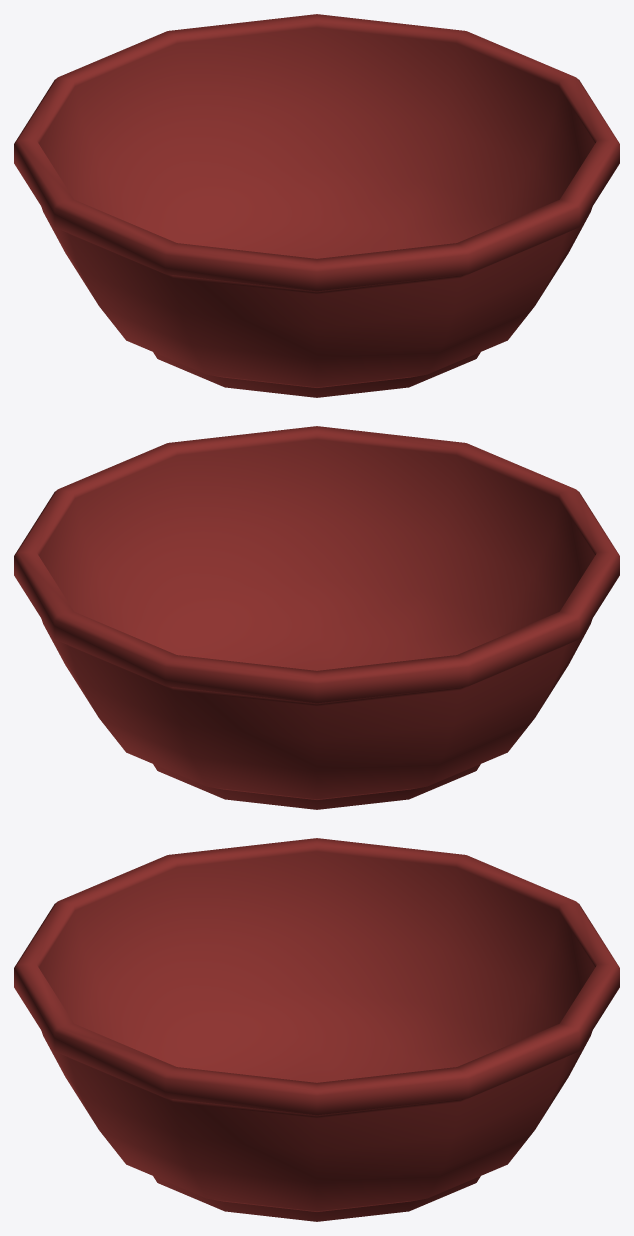
File: red_metal_bowl_white_speckles.dae
3 renders of one model, top to bottom at view 1: azimuth 30°, elevation 25°; view 2: azimuth 150°, elevation 25°; view 3: azimuth 270°, elevation 25°, orthographic.
Parts seen in each view (by area): view 1: Circle; view 2: Circle; view 3: Circle.
Boxes of the visible parts, left/top/right/bottom form: Circle: left=14, top=14, right=619, bottom=397; Circle: left=14, top=426, right=619, bottom=809; Circle: left=14, top=838, right=619, bottom=1221.
Bounding box in the file's own units: 0.16 × 0.16 × 0.0523.
